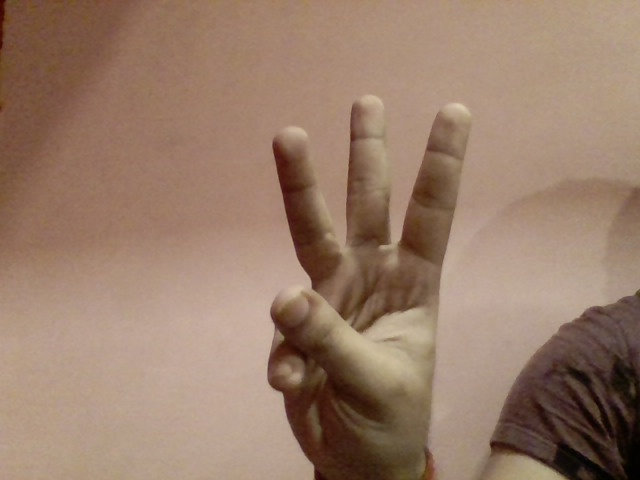w: (245, 80, 477, 470)
